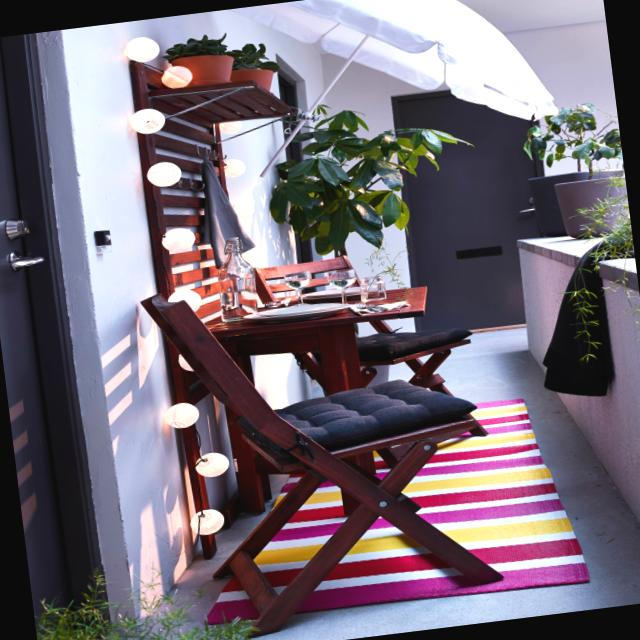obstacle: (138, 253, 509, 640)
